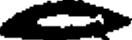Mouth: (0, 1, 131, 40)
